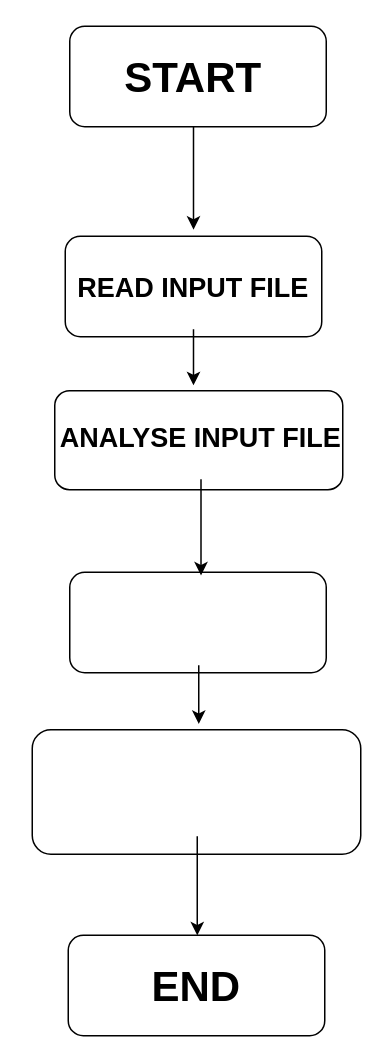
Some shapes in this 387 by 1062 pixel diagram are drawn without their labels. Each missing label, with the box of its shape:
CREATE OUTPUT FILE: (31, 728, 361, 854)
PREPARE OUTPUT DATA: (68, 571, 326, 673)
